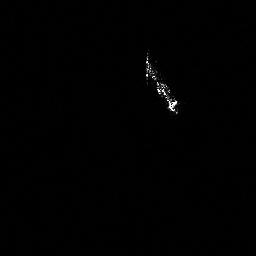ship: (141, 48, 186, 119)
